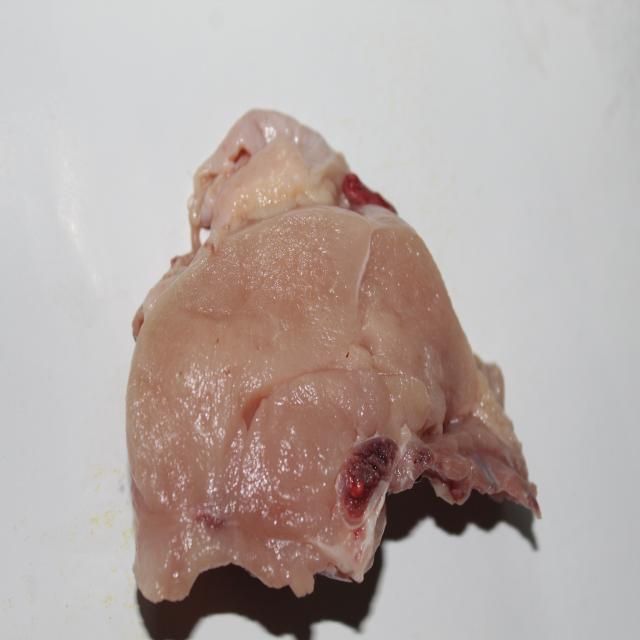Ayam: (128, 111, 536, 602)
